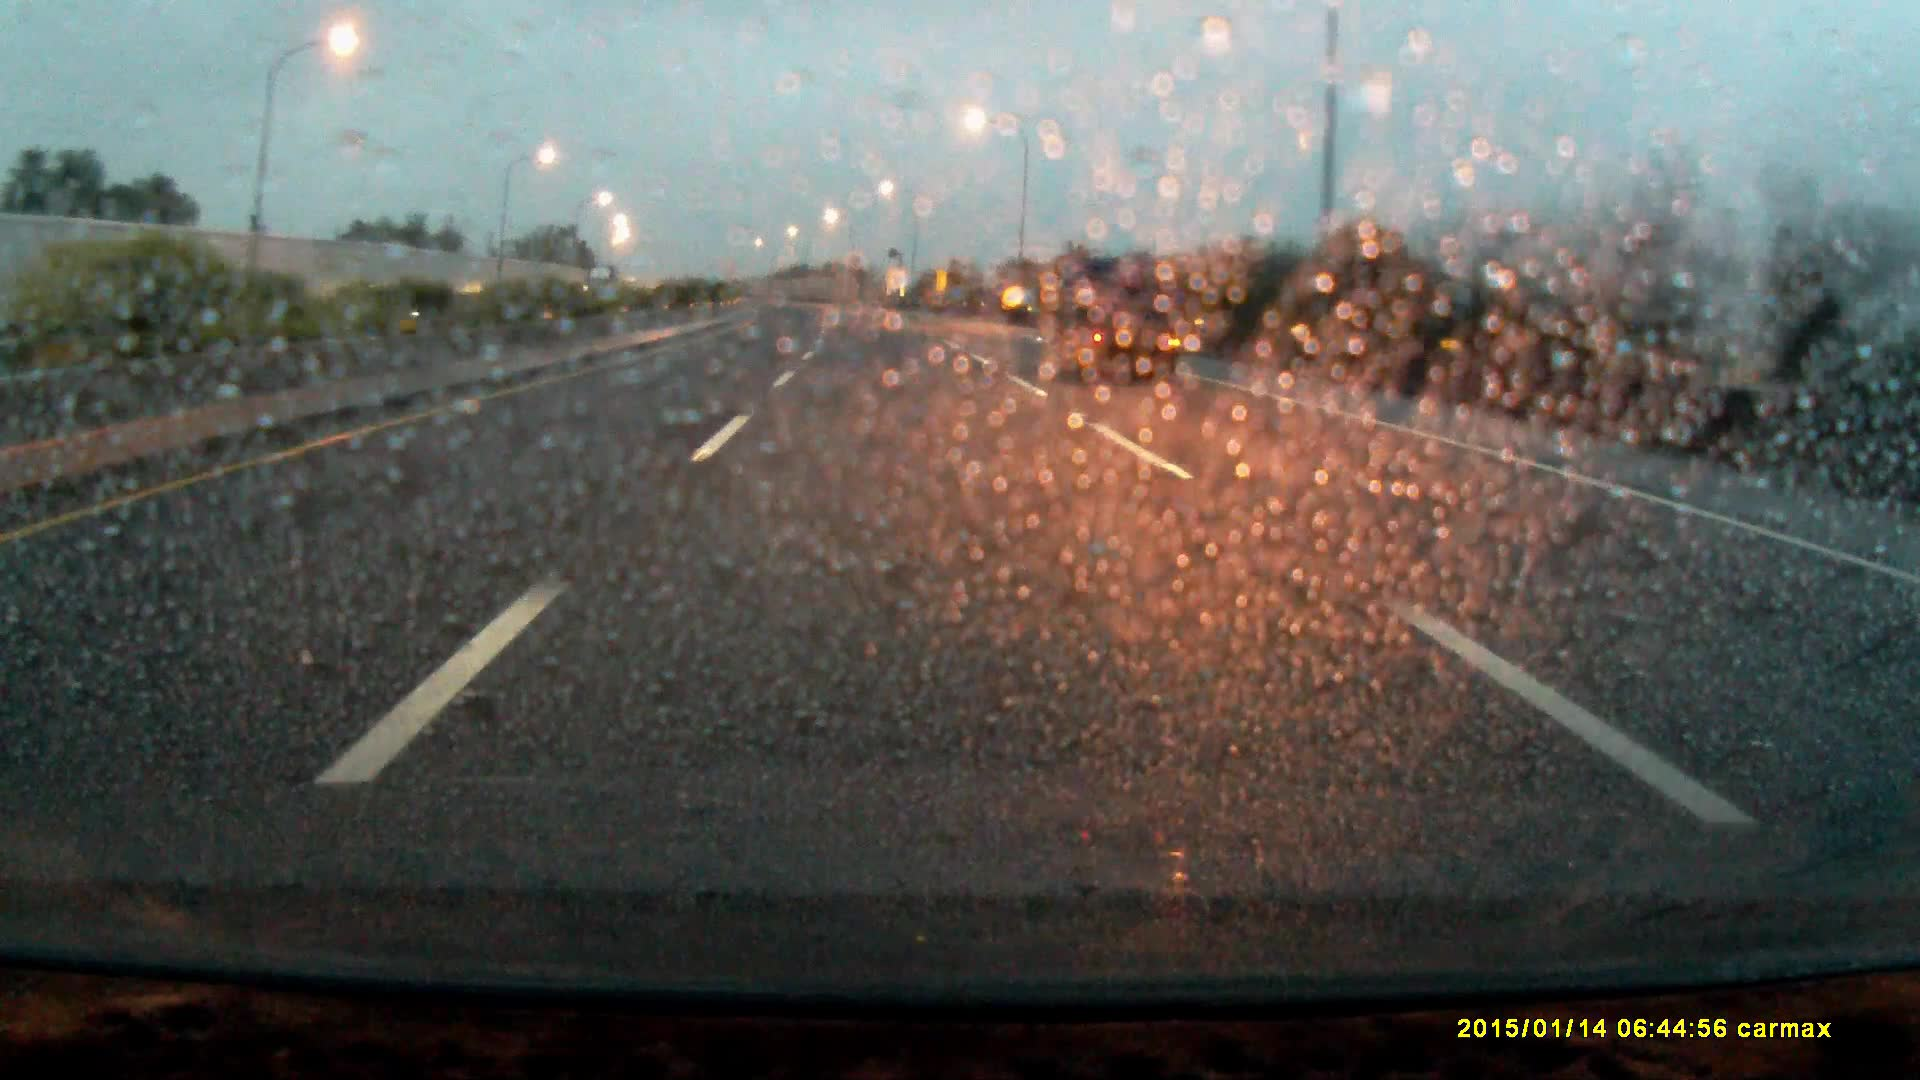vehicle: (1051, 258, 1185, 390), (585, 265, 618, 305)
